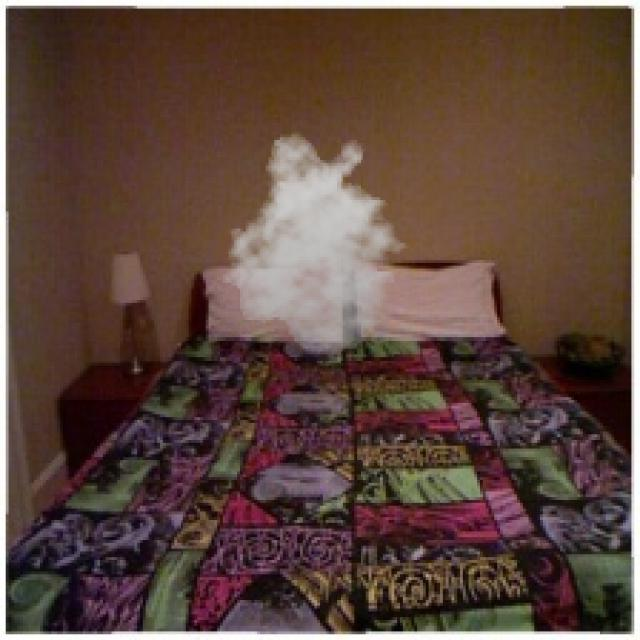smoke: (217, 132, 417, 354)
